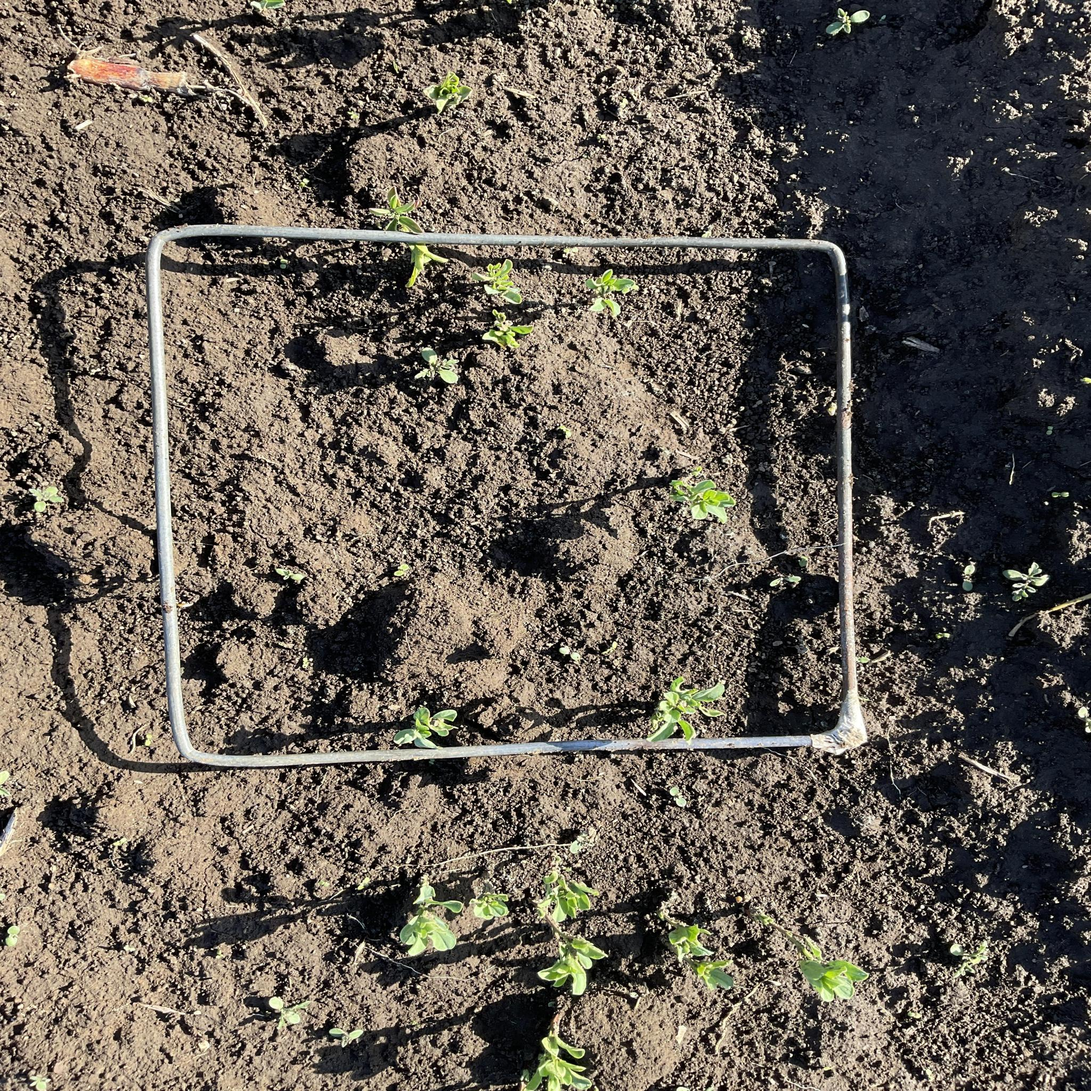AMBEL: (1002, 562, 1051, 599), (948, 939, 992, 980), (412, 347, 460, 384), (267, 996, 311, 1029), (825, 6, 871, 37), (28, 484, 64, 512), (329, 1026, 364, 1048), (569, 827, 596, 854), (767, 570, 803, 587), (273, 565, 306, 581), (4, 924, 22, 948), (961, 563, 975, 592), (669, 786, 687, 808), (557, 645, 582, 660), (390, 564, 412, 577), (600, 641, 617, 656), (277, 256, 290, 269), (559, 426, 572, 437), (144, 734, 154, 746)
LENCU: (759, 914, 864, 1000), (523, 1015, 593, 1091), (648, 677, 722, 744), (399, 884, 463, 955), (538, 930, 608, 994), (671, 475, 739, 525), (391, 706, 459, 751), (538, 872, 602, 919), (586, 268, 637, 318), (471, 257, 525, 304), (369, 189, 425, 232), (658, 916, 717, 956), (402, 243, 450, 289), (479, 311, 533, 350), (425, 71, 474, 110), (691, 961, 735, 993), (472, 893, 513, 920)
